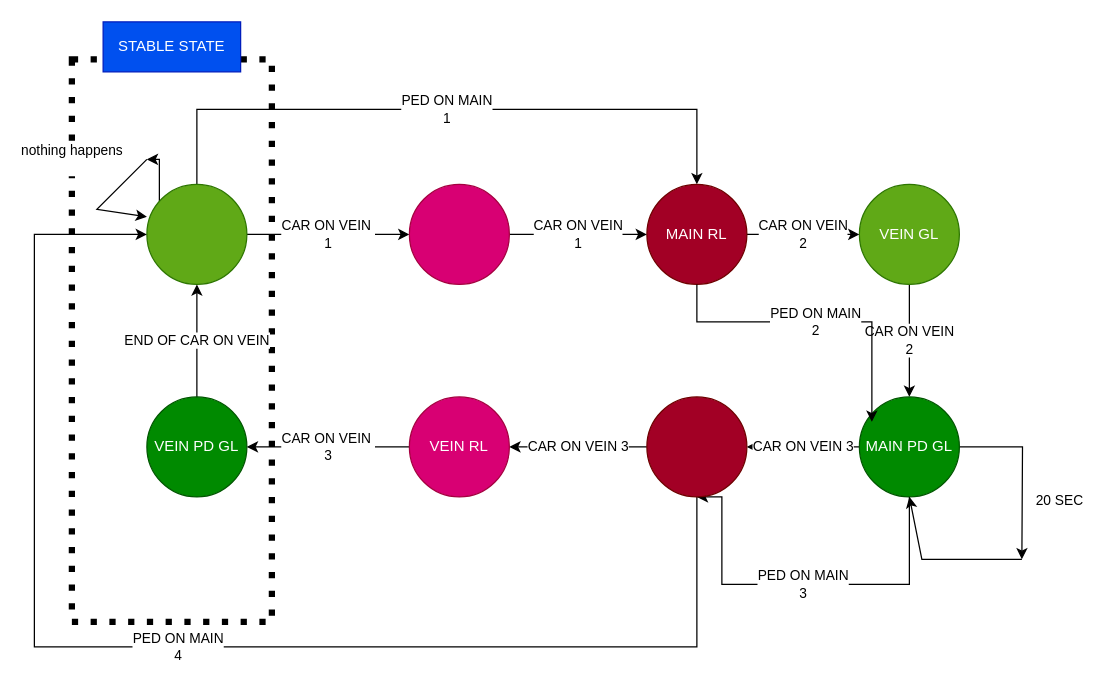
The diagram is 1106 pixels wide and 685 high, and some of its shapes have lost their labels. Each missing label, with the centre of its shape:
MAIN GL: the point at 196,233
MAIN PD RL: the point at 696,446
VEIN PD RL: the point at 458,233
